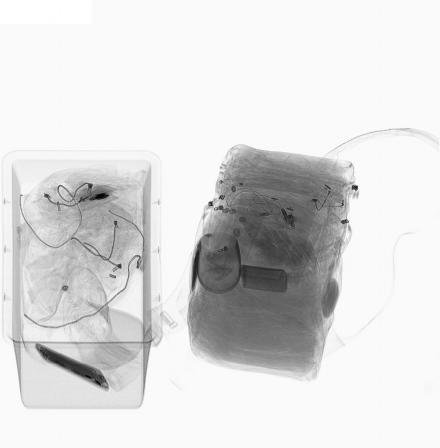Powerbank: (35, 344, 112, 391)
